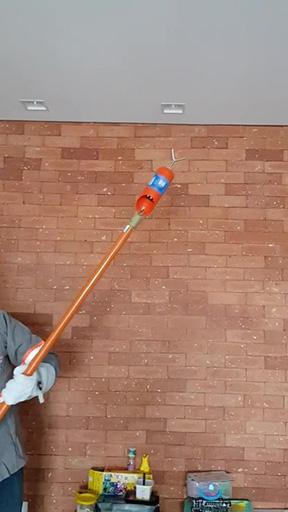Detector_Tensao_Contato: (134, 148, 188, 216)
Vara_Manobra: (1, 214, 145, 422)
